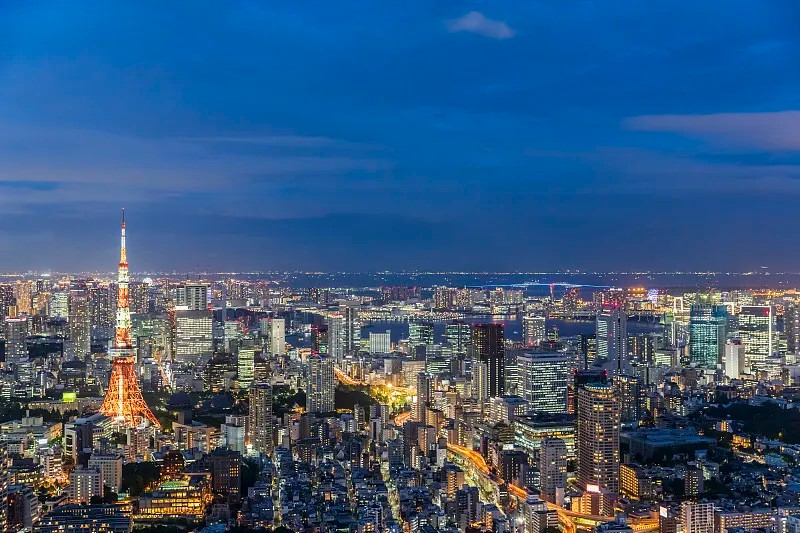Tokyo: (97, 205, 166, 433)
